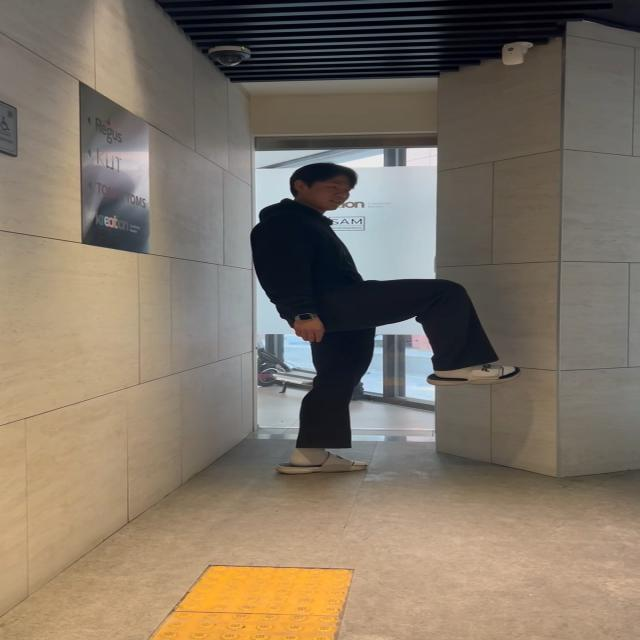knee: (343, 272, 518, 392)
